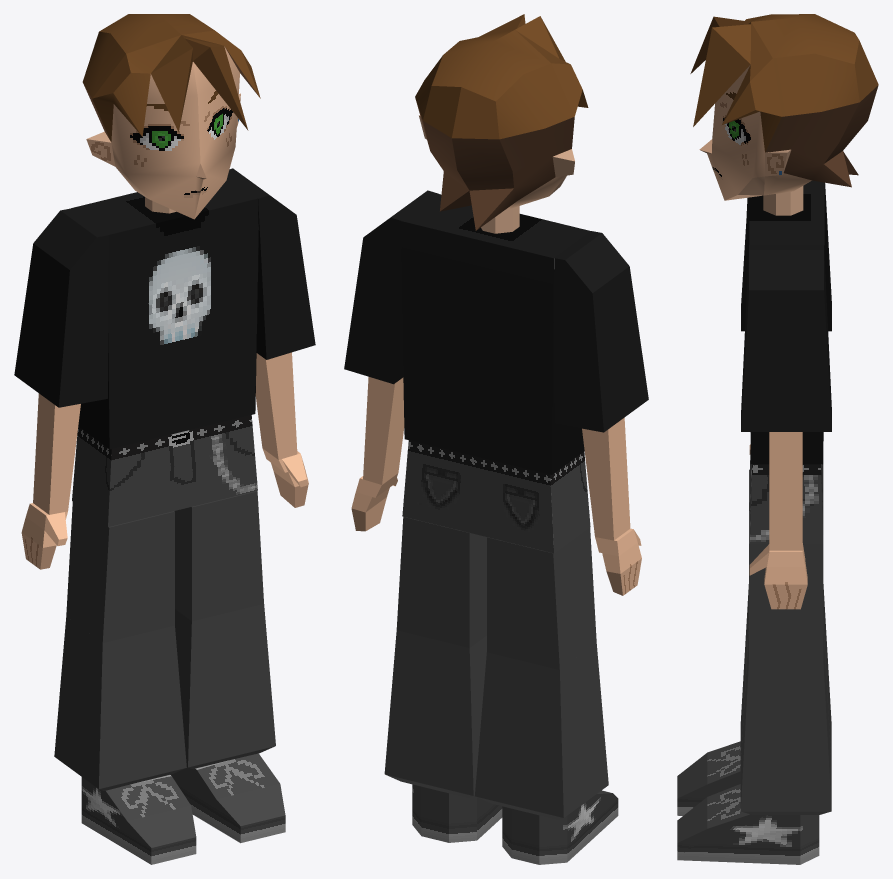
The model's file is DS_Character.glb.
The picture shows the model from 3 angles, left to right: view 1: azimuth 30°, elevation 25°; view 2: azimuth 150°, elevation 25°; view 3: azimuth 270°, elevation 25°; orthographic projection. The views are drawn at different scales.
Visible parts, largest first — view 1: Shirt, Legs2, Head, Shirt_sides, Legs1, Shoes, Pelvis, Arms, Hands; view 2: Shirt, Legs2, Head, Shirt_sides, Legs1, Pelvis, Shoes, Arms, Hands, Neck; view 3: Head, Shirt_sides, Legs2, Shoes, Legs1, Shirt, Arms, Pelvis, Hands, Neck.
Boxes of the visible parts, bbox=[...] form: Shirt: bbox=[71, 176, 258, 449]; Legs2: bbox=[54, 604, 275, 790]; Head: bbox=[82, 14, 260, 219]; Shirt_sides: bbox=[14, 168, 315, 407]; Legs1: bbox=[66, 491, 263, 642]; Shoes: bbox=[81, 753, 285, 864]; Pelvis: bbox=[72, 415, 257, 526]; Arms: bbox=[33, 352, 297, 514]; Hands: bbox=[21, 448, 308, 569]; Shirt: bbox=[401, 194, 590, 474]; Legs2: bbox=[384, 630, 608, 819]; Head: bbox=[415, 14, 588, 230]; Shirt_sides: bbox=[344, 190, 648, 432]; Legs1: bbox=[396, 516, 596, 669]; Pelvis: bbox=[402, 440, 590, 553]; Shoes: bbox=[412, 784, 618, 864]; Arms: bbox=[363, 377, 630, 540]; Hands: bbox=[351, 473, 641, 595]; Neck: bbox=[481, 206, 519, 233]; Head: bbox=[690, 14, 878, 200]; Shirt_sides: bbox=[741, 183, 831, 431]; Legs2: bbox=[740, 584, 831, 814]; Shoes: bbox=[677, 741, 819, 864]; Legs1: bbox=[749, 469, 823, 663]; Shirt: bbox=[749, 180, 824, 464]; Arms: bbox=[769, 432, 802, 550]; Pelvis: bbox=[750, 450, 823, 543]; Hands: bbox=[749, 444, 807, 609]; Neck: bbox=[763, 186, 803, 215].
Size of the model in its own units: 1.38 by 3.92 by 0.8841.
Materials: 3 (3 with a texture image).
